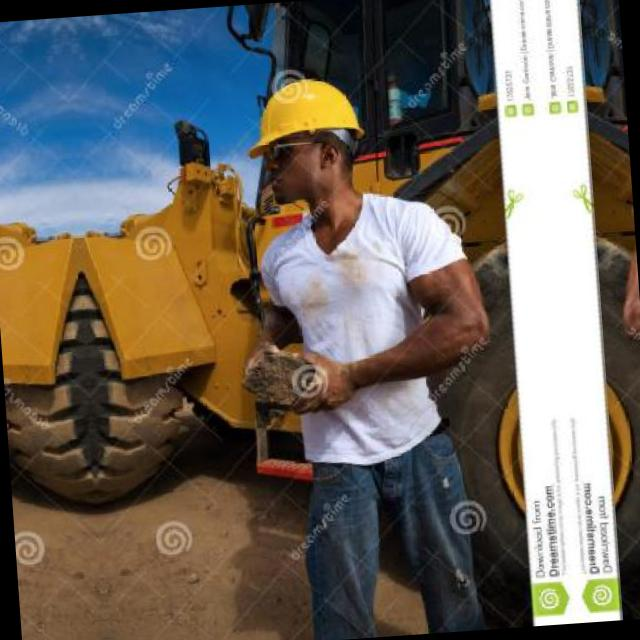helmet: (235, 56, 382, 238)
